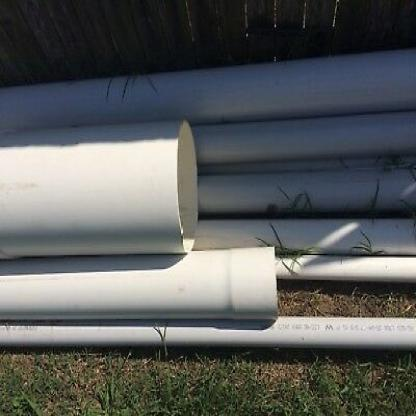PVC: (0, 51, 415, 132), (0, 121, 199, 260), (0, 247, 278, 320), (0, 319, 415, 348), (191, 112, 415, 164), (199, 164, 415, 216), (194, 218, 415, 255), (276, 255, 415, 281)
